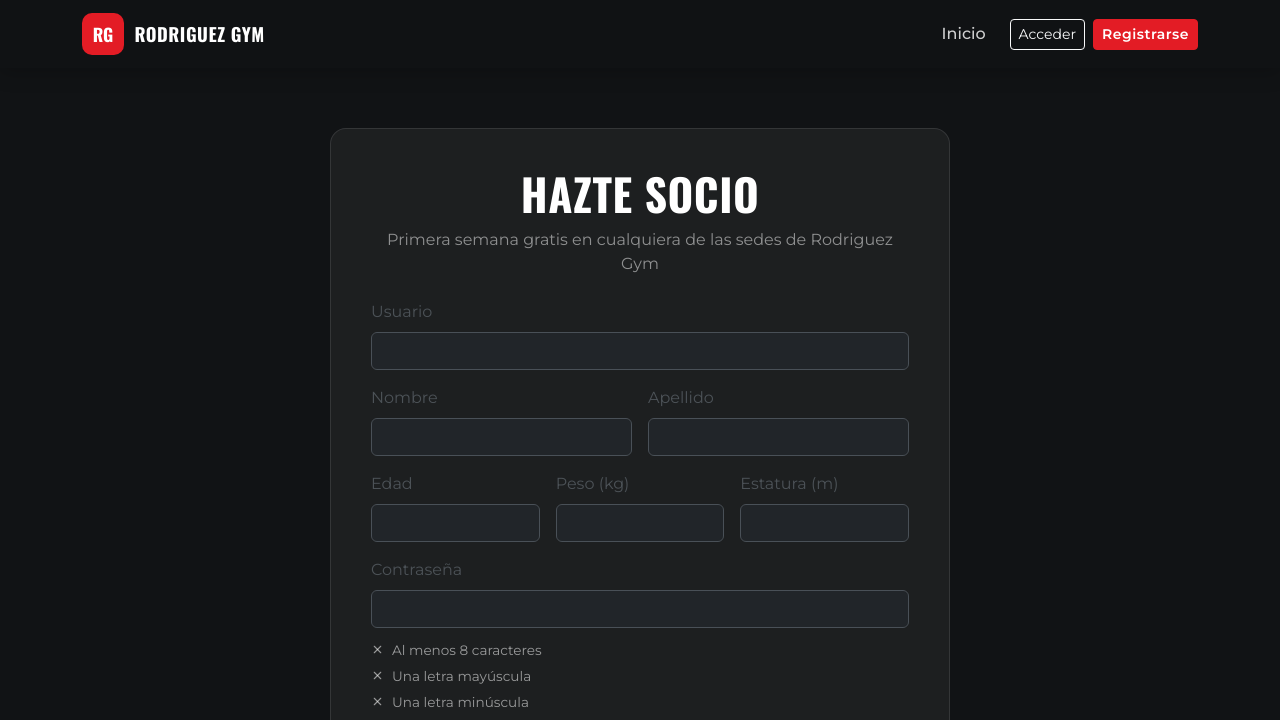
Test case: reglas de la contraseña › mantiene el botón deshabilitado mientras no se cumplan
Type "password" into the password field labelled "Contraseña".
click(640, 609); type("password")  # box [371, 590, 909, 628]
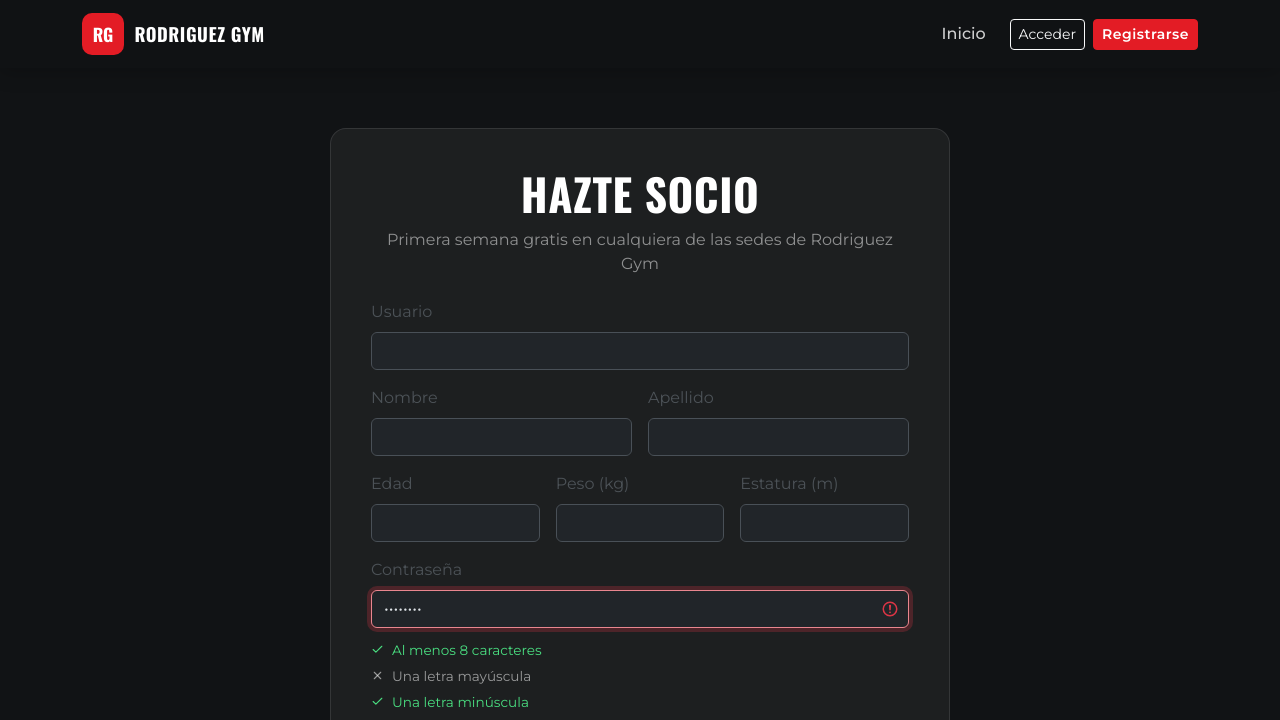
Type "A!" into the password field labelled "Contraseña".
click(640, 609); type("A!")  # box [371, 590, 909, 628]
(page scrolled)
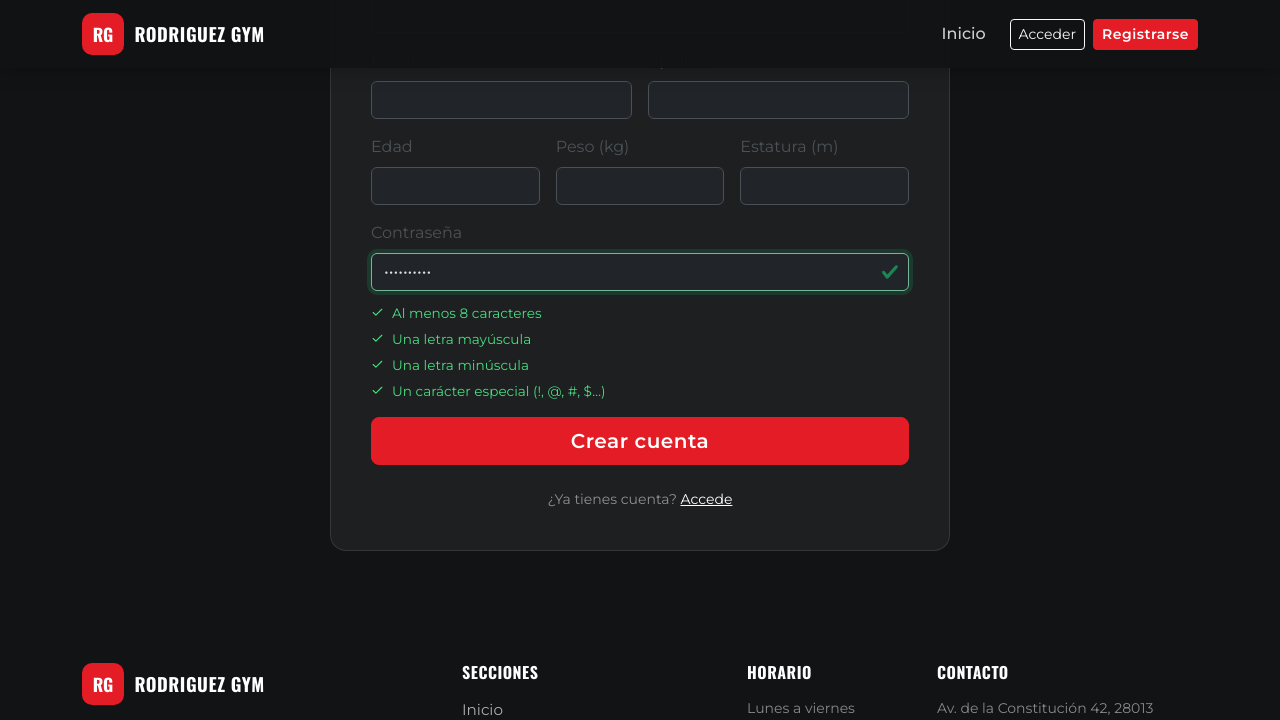
Now the button "Crear cuenta" is enabled, box [371, 417, 909, 465]
